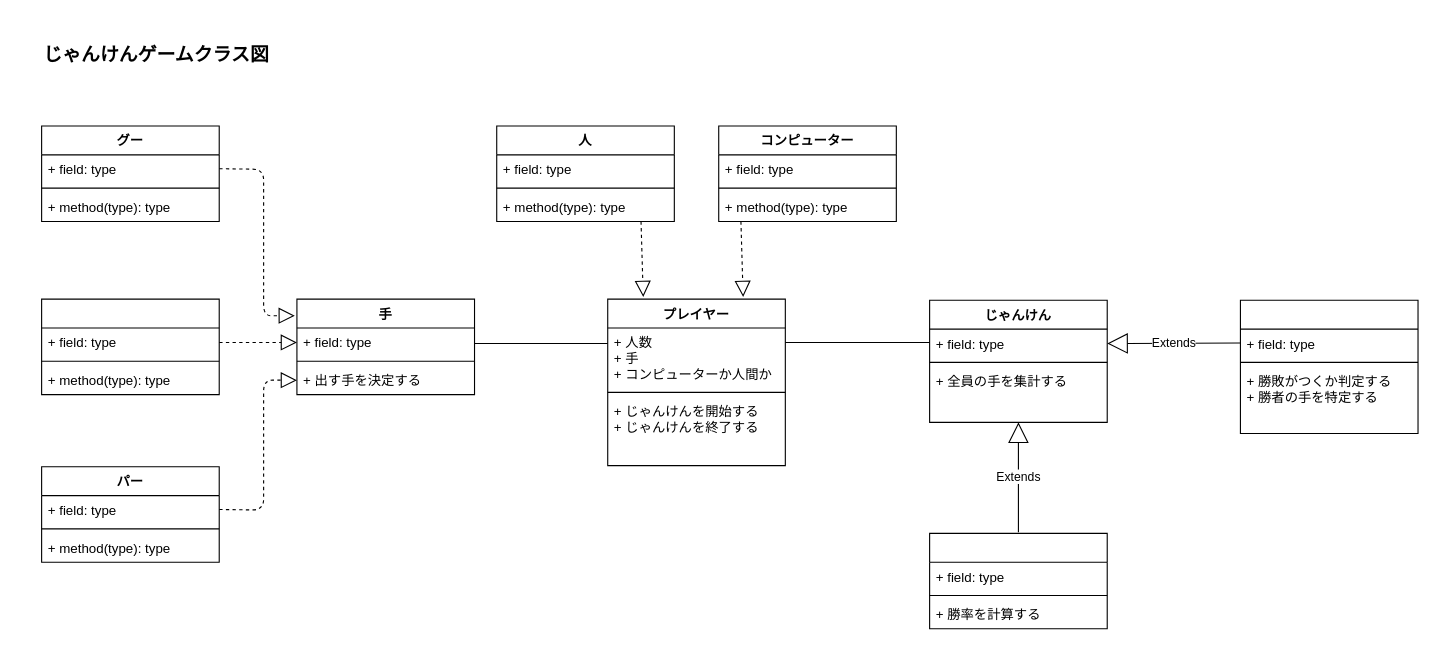
This 1437x650 diagram has some shape labels left out. The box of each missing label's shape, as (x1, y1, x2, y2) in pixels:
チョキ: (41, 298, 219, 395)
勝敗判定: (1239, 299, 1418, 433)
勝率計算: (929, 532, 1107, 629)
